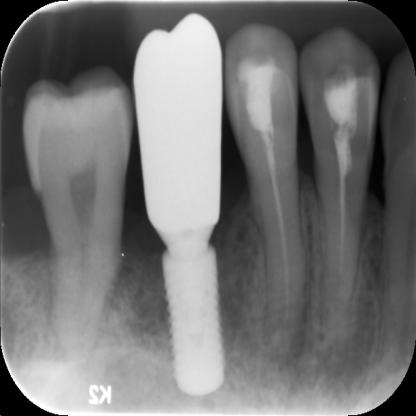ITI: (154, 240, 236, 401)
